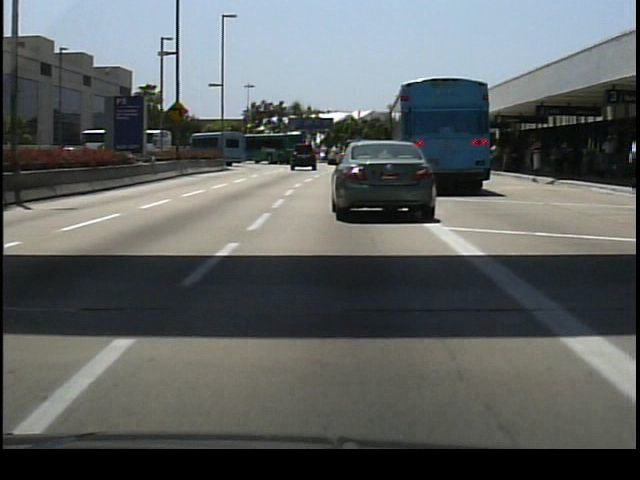person: (623, 127, 640, 194)
